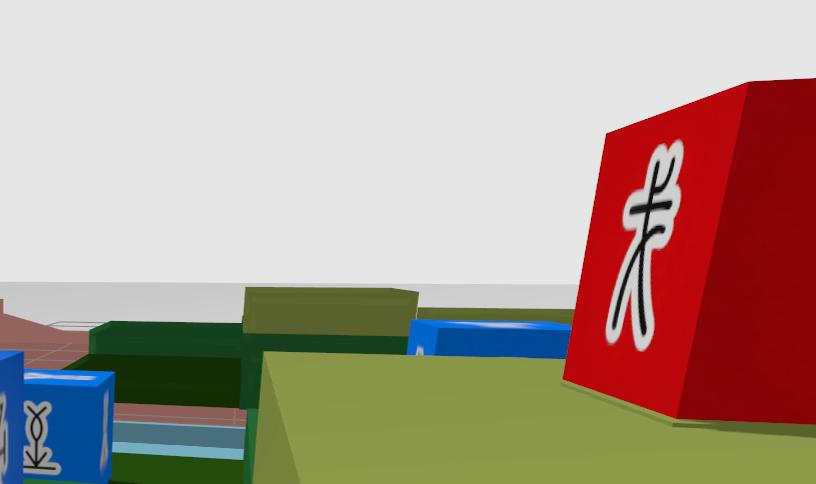KFS_FAKE: (605, 141, 683, 350), (22, 400, 61, 475), (99, 391, 110, 470), (0, 393, 8, 483), (24, 372, 96, 380)
KFS_REAL: (22, 369, 115, 482), (0, 351, 23, 483), (23, 400, 60, 475), (0, 393, 11, 483), (100, 393, 110, 468), (24, 371, 94, 379)
